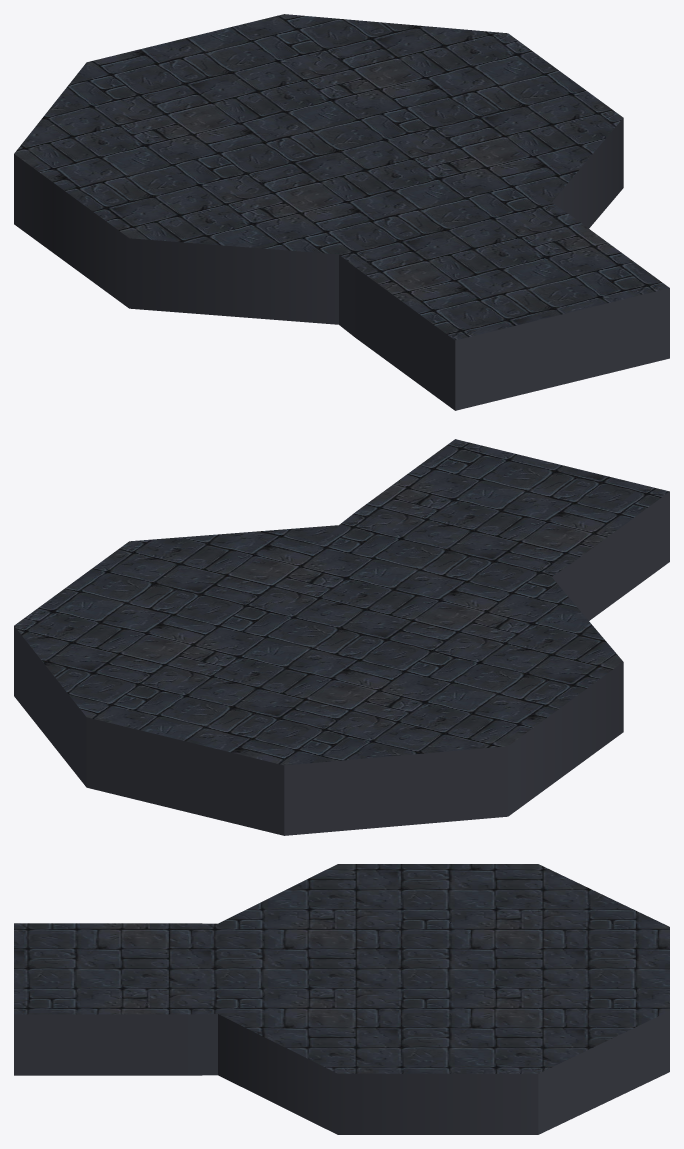
The model's file is Stage4.fbx.
3 views of the same model, one above another, from view 1: azimuth 30°, elevation 25°; view 2: azimuth 150°, elevation 25°; view 3: azimuth 270°, elevation 25° (orthographic). The views are drawn at different scales.
Visible parts, largest first — view 1: Stage4; view 2: Stage4; view 3: Stage4.
Part boxes in pixels (x1,y1,x2,y2): Stage4: (14,14,669,410); Stage4: (14,439,669,835); Stage4: (14,864,669,1134).
Bounding box in the file's own units: 158 × 21.54 × 209.
2 materials, 1 textured.
